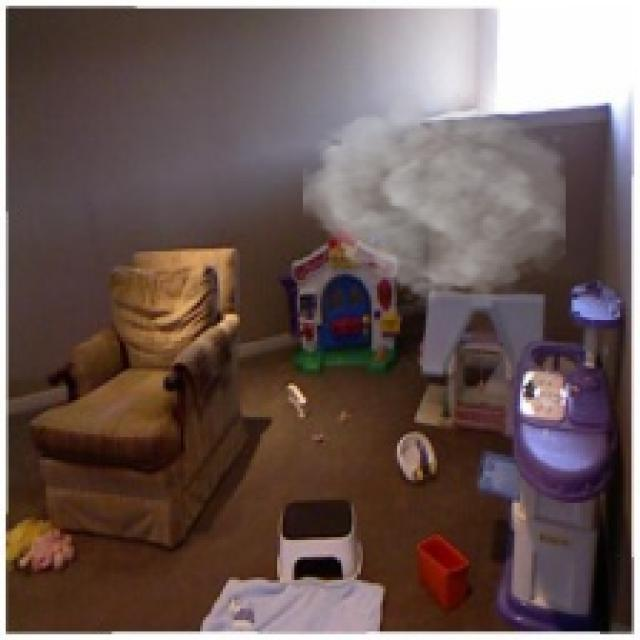Smoke: (303, 89, 566, 308)
